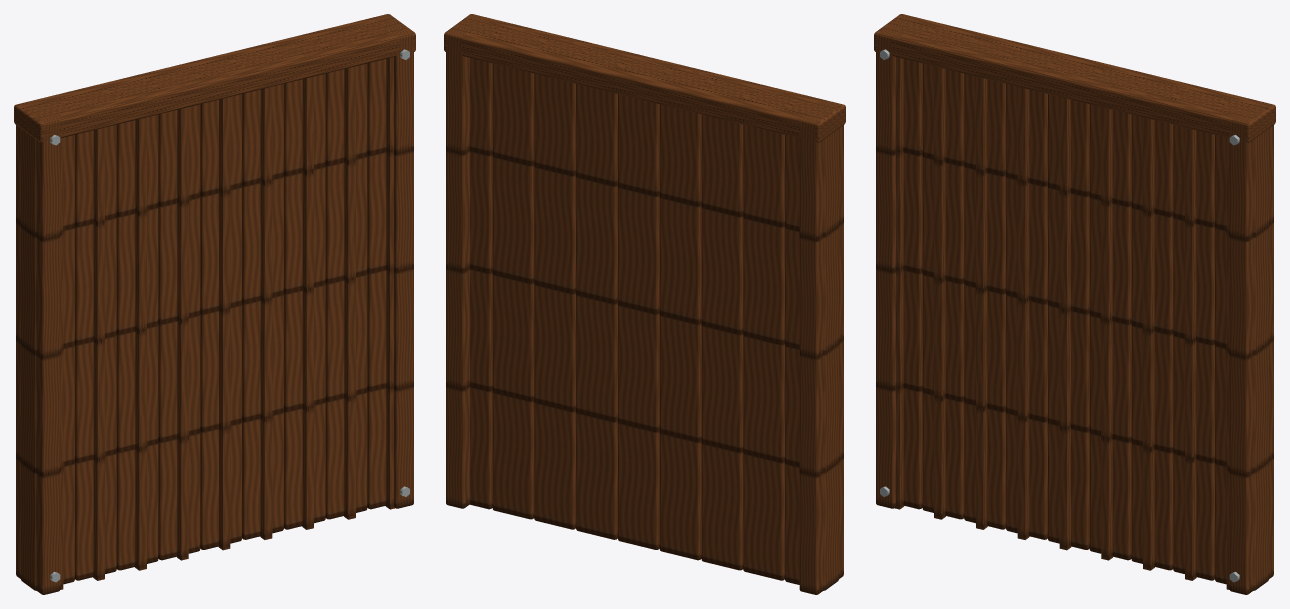
Rendered from rural-scavenging-settlements-cottage-solid-wall-8a155c58__26441.glb.
The picture shows the model from 3 angles, left to right: view 1: azimuth 30°, elevation 25°; view 2: azimuth 150°, elevation 25°; view 3: azimuth 330°, elevation 25°; orthographic projection.
Visible parts, largest first — view 1: cottage-solid-wall; view 2: cottage-solid-wall; view 3: cottage-solid-wall.
Part boxes in pixels (box(x1,y1,x2,y2)): cottage-solid-wall: box(14, 14, 415, 594); cottage-solid-wall: box(444, 14, 845, 594); cottage-solid-wall: box(874, 14, 1275, 594).
Size of the model in its own units: 2 by 2.4 by 0.2774.
Materials: 2 (1 with a texture image).
